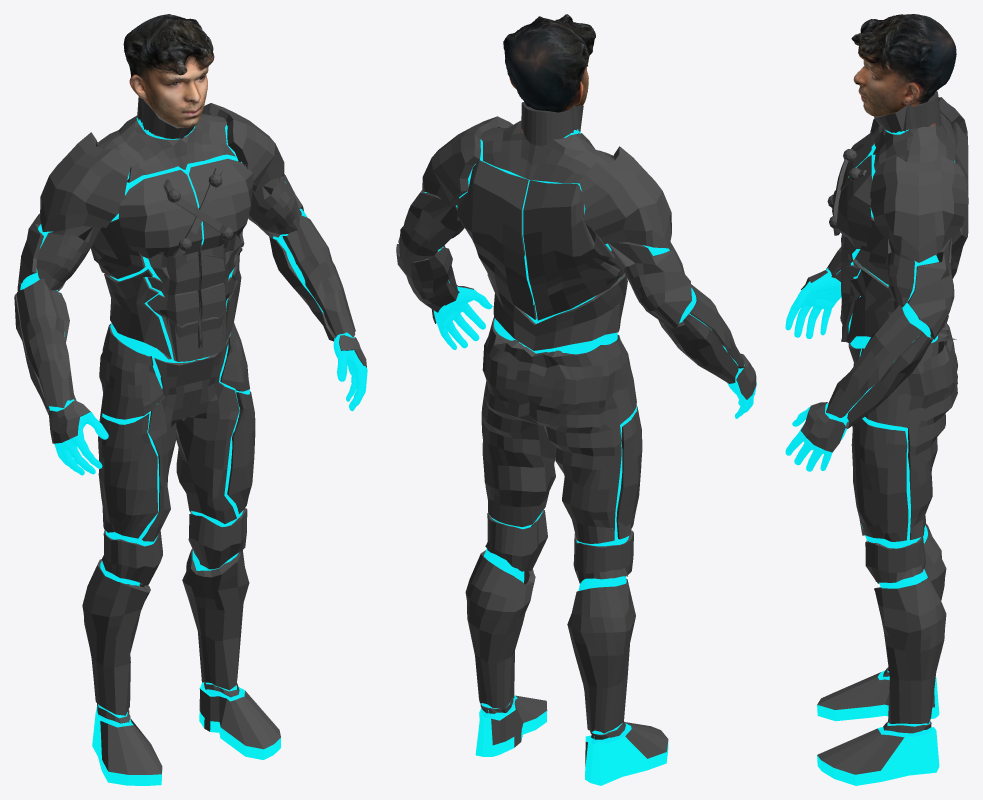
Rendered from superherov7.glb.
The picture shows the model from 3 angles, left to right: view 1: azimuth 30°, elevation 25°; view 2: azimuth 150°, elevation 25°; view 3: azimuth 270°, elevation 25°; orthographic projection. The views are drawn at different scales.
Visible parts, largest first — view 1: suit, body, face; view 2: suit, face, body; view 3: suit, face, body.
Boxes of the visible parts, bbox=[...] form: suit: bbox=[14, 97, 366, 785]; body: bbox=[20, 117, 367, 727]; face: bbox=[123, 14, 214, 128]; suit: bbox=[396, 102, 756, 785]; face: bbox=[503, 14, 595, 131]; body: bbox=[424, 129, 756, 744]; suit: bbox=[801, 90, 968, 785]; face: bbox=[851, 14, 956, 126]; body: bbox=[785, 129, 955, 736].
Bounding box in the file's own units: 0.8244 × 1.84 × 0.4189.
4 materials, 1 textured.
